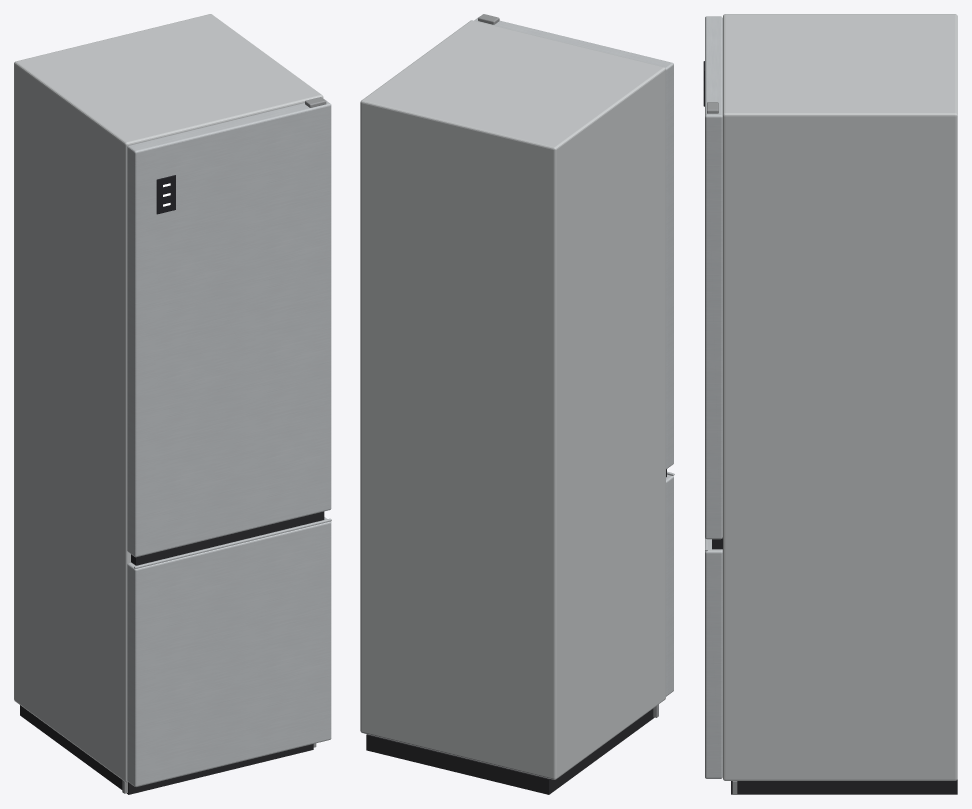
The model's file is fridge_clawind_302.glb.
3 views of the same model, side by side, from view 1: azimuth 30°, elevation 25°; view 2: azimuth 150°, elevation 25°; view 3: azimuth 270°, elevation 25° (orthographic). The views are drawn at different scales.
Parts seen in each view (by area): view 1: fridge_clawind_302; view 2: fridge_clawind_302; view 3: fridge_clawind_302.
Part boxes in pixels (<box>): fridge_clawind_302: <box>14,14,331,794</box>; fridge_clawind_302: <box>360,14,674,794</box>; fridge_clawind_302: <box>703,14,957,794</box>.
Bounding box in the file's own units: 0.595 × 1.88 × 0.634.
Materials: 6 (1 with a texture image).
